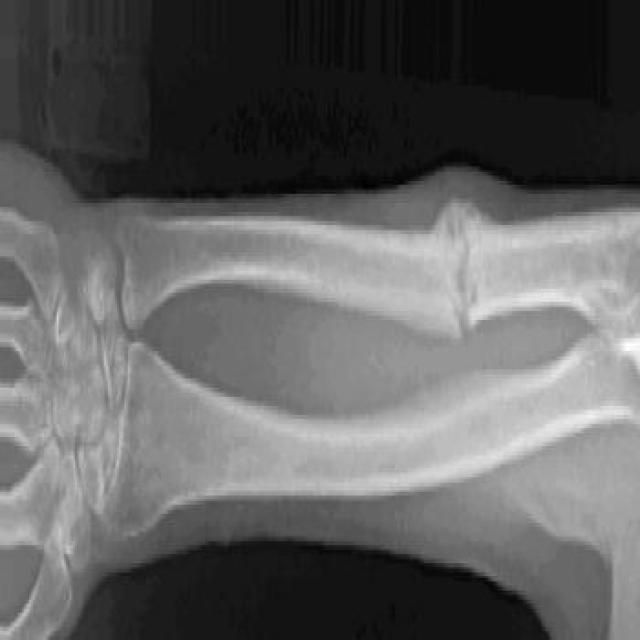Fracture: (438, 170, 485, 368)
